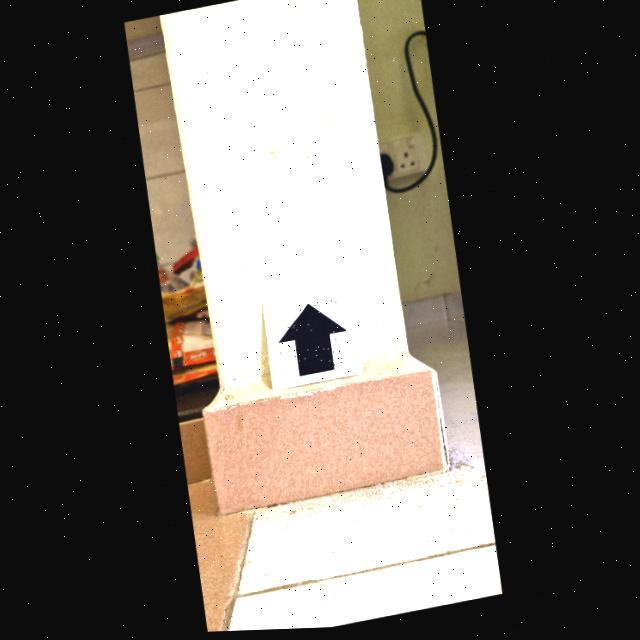UP: (281, 307, 346, 378)
